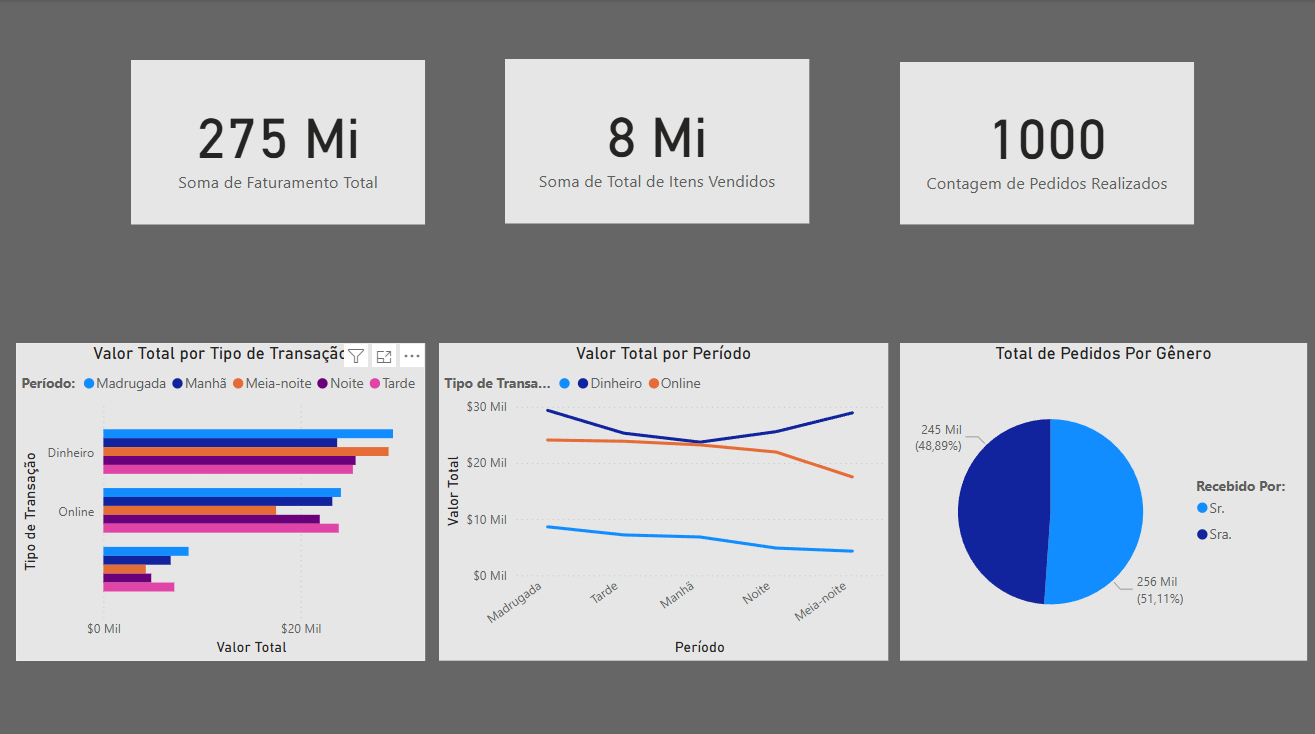

The page's visual inventory and layout, read from the dashboard file:
{"tool":"powerbi","page":{"name":"Comparativos","canvas":[1280,720],"ordinal":2},"visuals":[{"type":"clusteredBarChart","title":"Valor Total por Tipo de Transação","fields":{"Category":["Balaji Fast Food Sales.Tipo_Transacao"],"Y":["Sum(Balaji Fast Food Sales.transaction_amount)"],"Series":["Balaji Fast Food Sales.Período Formatado"]},"box":[16.5,333.6,397.8,309.3],"z":0},{"type":"pieChart","title":"Total de Pedidos Por Gênero","fields":{"Category":["Balaji Fast Food Sales.Recebido_Por"],"Y":["Sum(Balaji Fast Food Sales.order_id)"]},"box":[876.4,333.6,395.9,309.3],"z":1000},{"type":"lineChart","title":"Valor Total por Período","fields":{"Category":["Balaji Fast Food Sales.Período Formatado"],"Y":["Sum(Balaji Fast Food Sales.transaction_amount)"],"Series":["Balaji Fast Food Sales.Tipo_Transacao"]},"box":[428,333.6,436.7,309.3],"z":2000},{"type":"card","fields":{"Values":["Sum(Balaji Fast Food Sales.Faturamento Total)"]},"box":[128.4,58.4,286,159.5],"z":3000},{"type":"card","fields":{"Values":["CountNonNull(Balaji Fast Food Sales.Pedidos Realizados)"]},"box":[876.4,60.3,286,157.6],"z":4000},{"type":"card","fields":{"Values":["Sum(Balaji Fast Food Sales.Total de Itens Vendidos)"]},"box":[492.2,57.4,295.7,160.5],"z":5000}]}

Visuals, with their boxes in screenshot pixels (x1, y1, x2, y2), scaled from the page's 1280x720 canvas onto the 1315x734 screenshot:
"Valor Total por Tipo de Transação" clusteredBarChart: [x1=17, y1=340, x2=426, y2=655]
"Total de Pedidos Por Gênero" pieChart: [x1=900, y1=340, x2=1307, y2=655]
"Valor Total por Período" lineChart: [x1=440, y1=340, x2=888, y2=655]
card - Sum(Balaji Fast Food Sales.Faturamento Total): [x1=132, y1=60, x2=426, y2=222]
card - CountNonNull(Balaji Fast Food Sales.Pedidos Realizados): [x1=900, y1=61, x2=1194, y2=222]
card - Sum(Balaji Fast Food Sales.Total de Itens Vendidos): [x1=506, y1=59, x2=809, y2=222]
